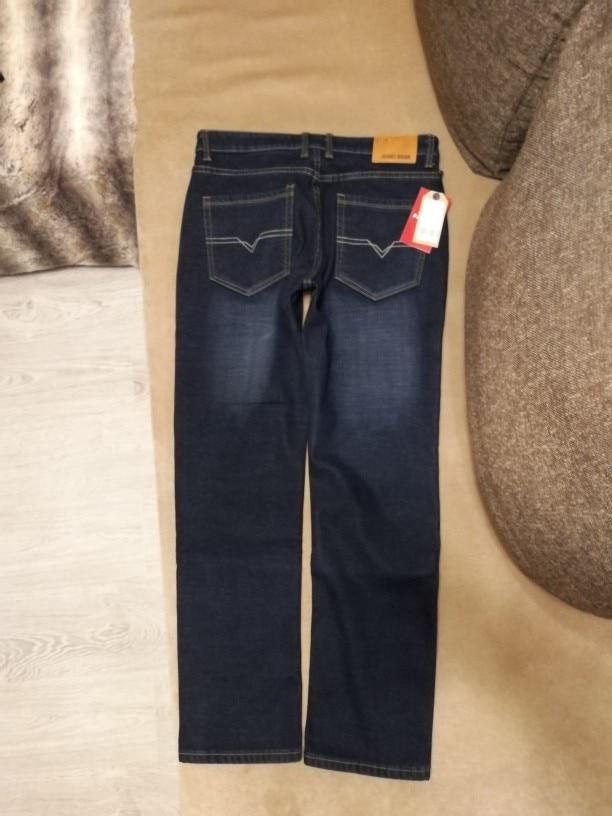jeans: (169, 129, 448, 775)
